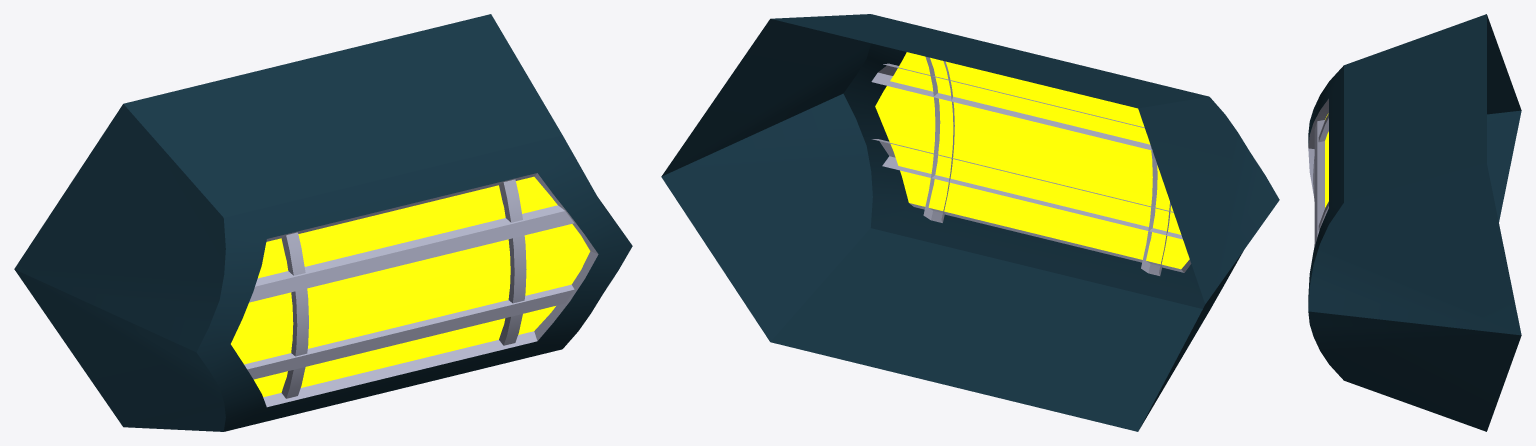
File: Light_Wall_01_Yellow.glb
3 renders of one model, left to right at view 1: azimuth 30°, elevation 25°; view 2: azimuth 150°, elevation 25°; view 3: azimuth 270°, elevation 25°, orthographic. The views are drawn at different scales.
Parts seen in each view (by area): view 1: Light_Wall_01_Yellow.001; view 2: Light_Wall_01_Yellow.001; view 3: Light_Wall_01_Yellow.001.
Part boxes in pixels (x1=…): Light_Wall_01_Yellow.001: x1=14, y1=14, x2=632, y2=431; Light_Wall_01_Yellow.001: x1=661, y1=14, x2=1279, y2=431; Light_Wall_01_Yellow.001: x1=1308, y1=14, x2=1521, y2=431.
Size of the model in its own units: 0.4004 by 0.2275 by 0.1636.
